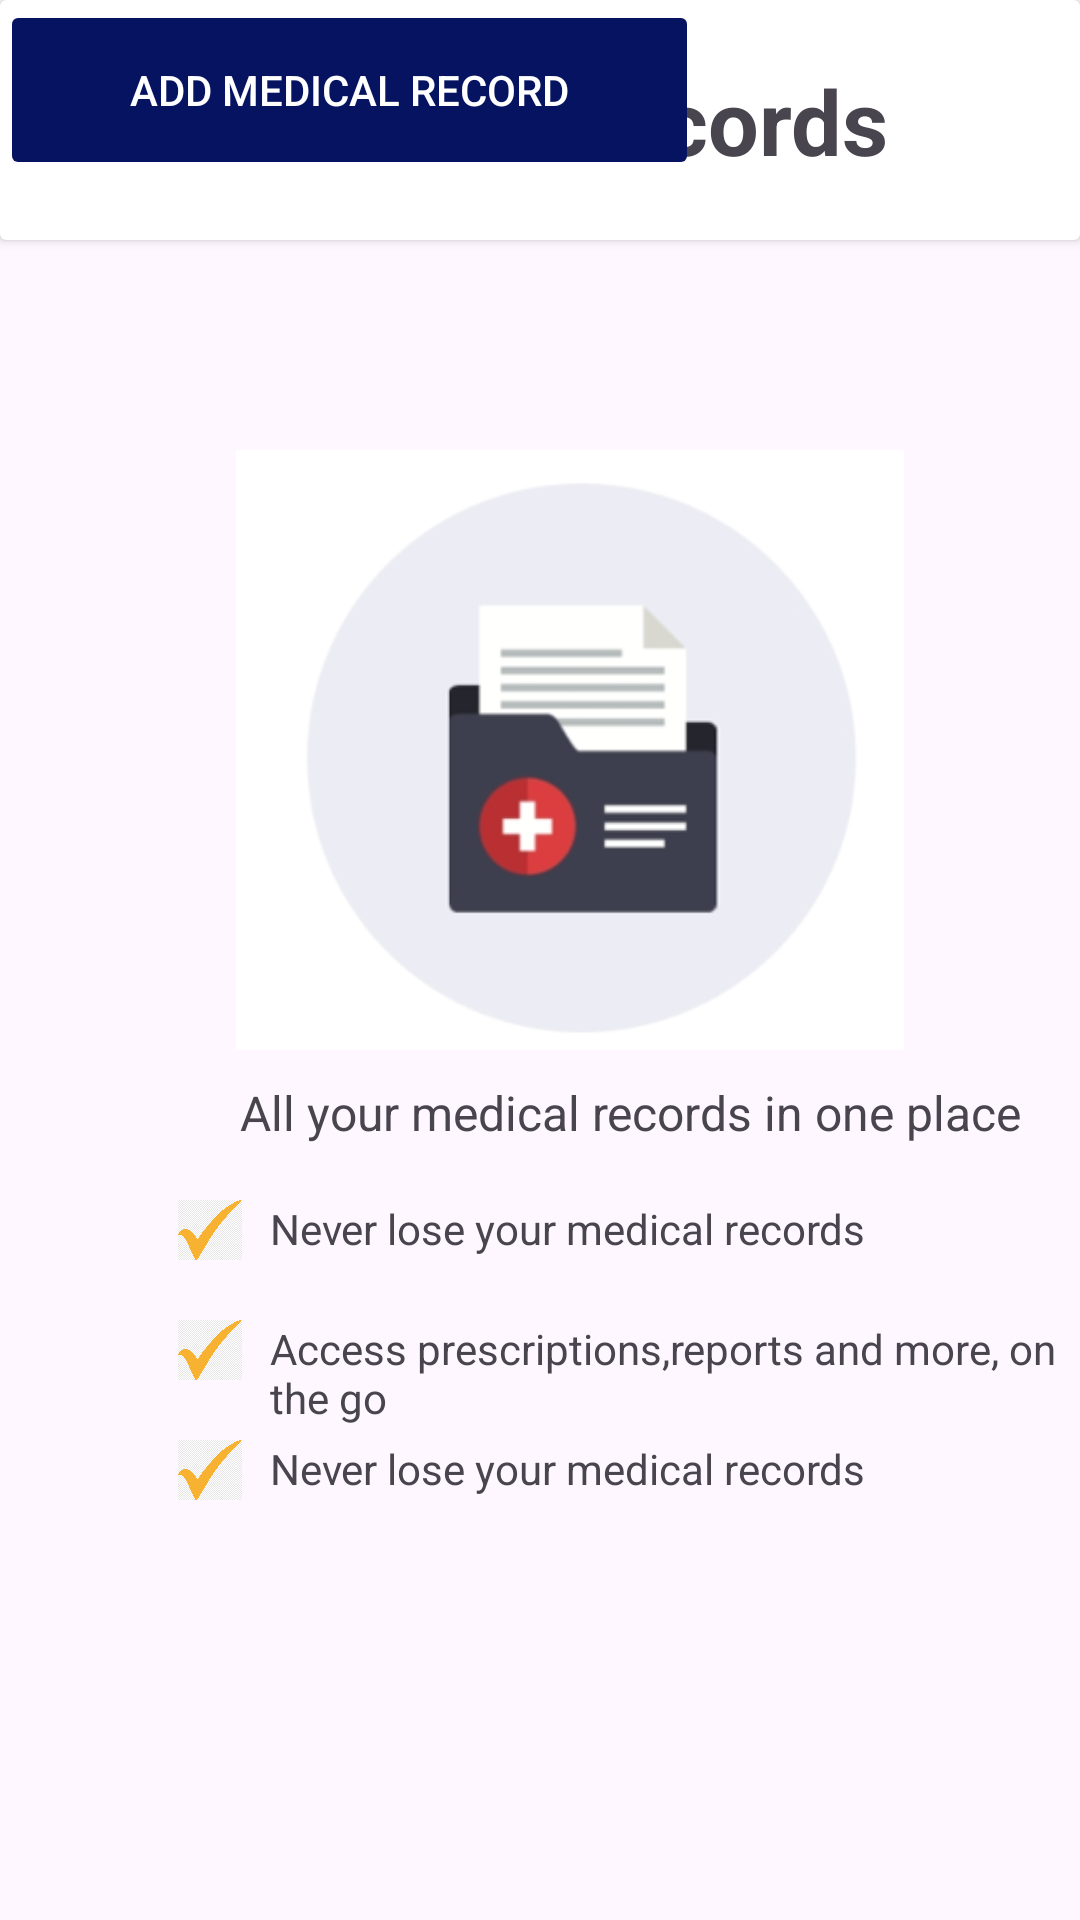

Screen size 1080*1920. Icon name, then its center in pixels as (x,y):
tick: (210,1230), (210,1350), (210,1470)
